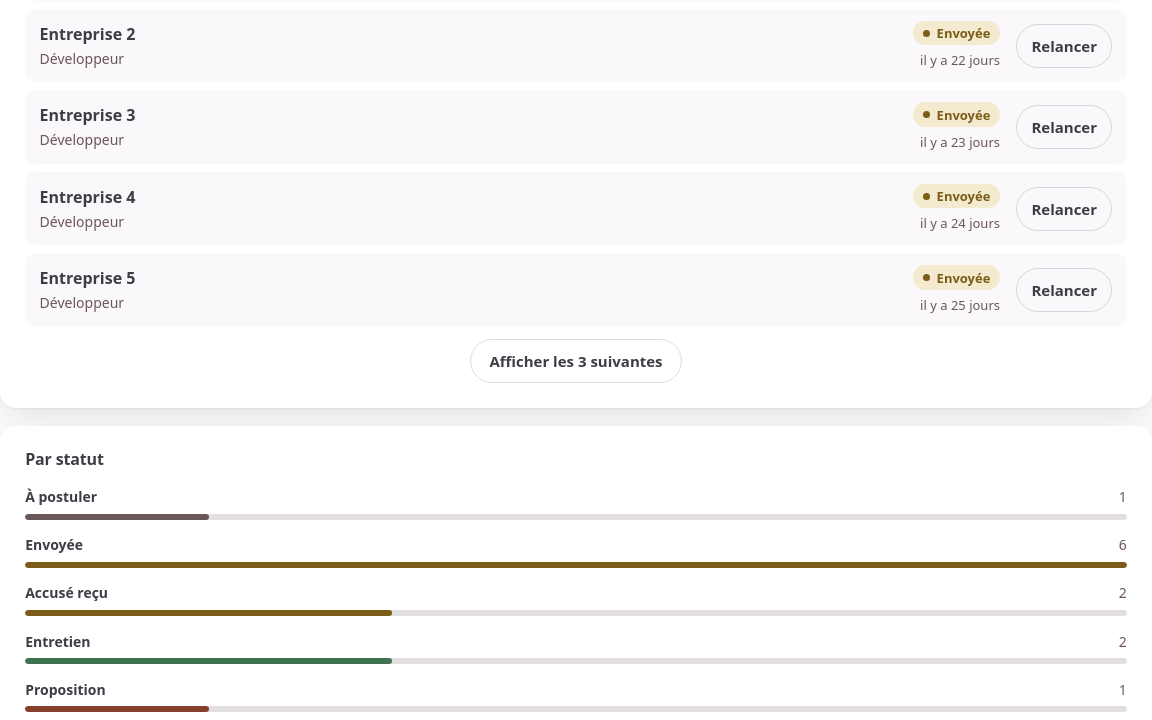
Test: DashboardPage › [EF-TDB-07] unfolds only the first 5 follow-ups, the rest on demand
(page scrolled)
Expected: the text "Entreprise 6" is not shown
Step 1. Click the button "Afficher les 3 suivantes" → (576, 361), box [470,339,682,383]
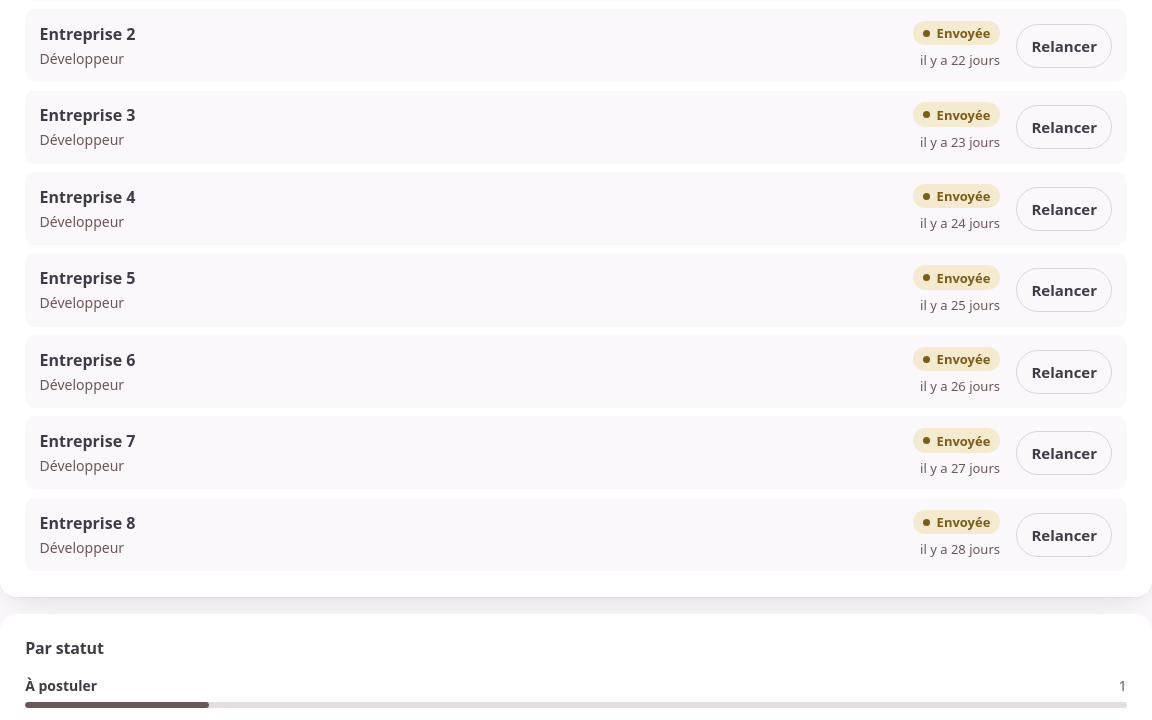
Expected: the text "Entreprise 8" is shown, [40,512,135,534]
Expected: the button "Afficher les" is gone
